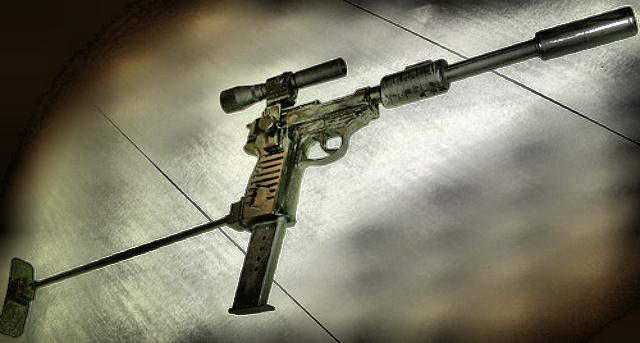pistol: (234, 59, 446, 225)
